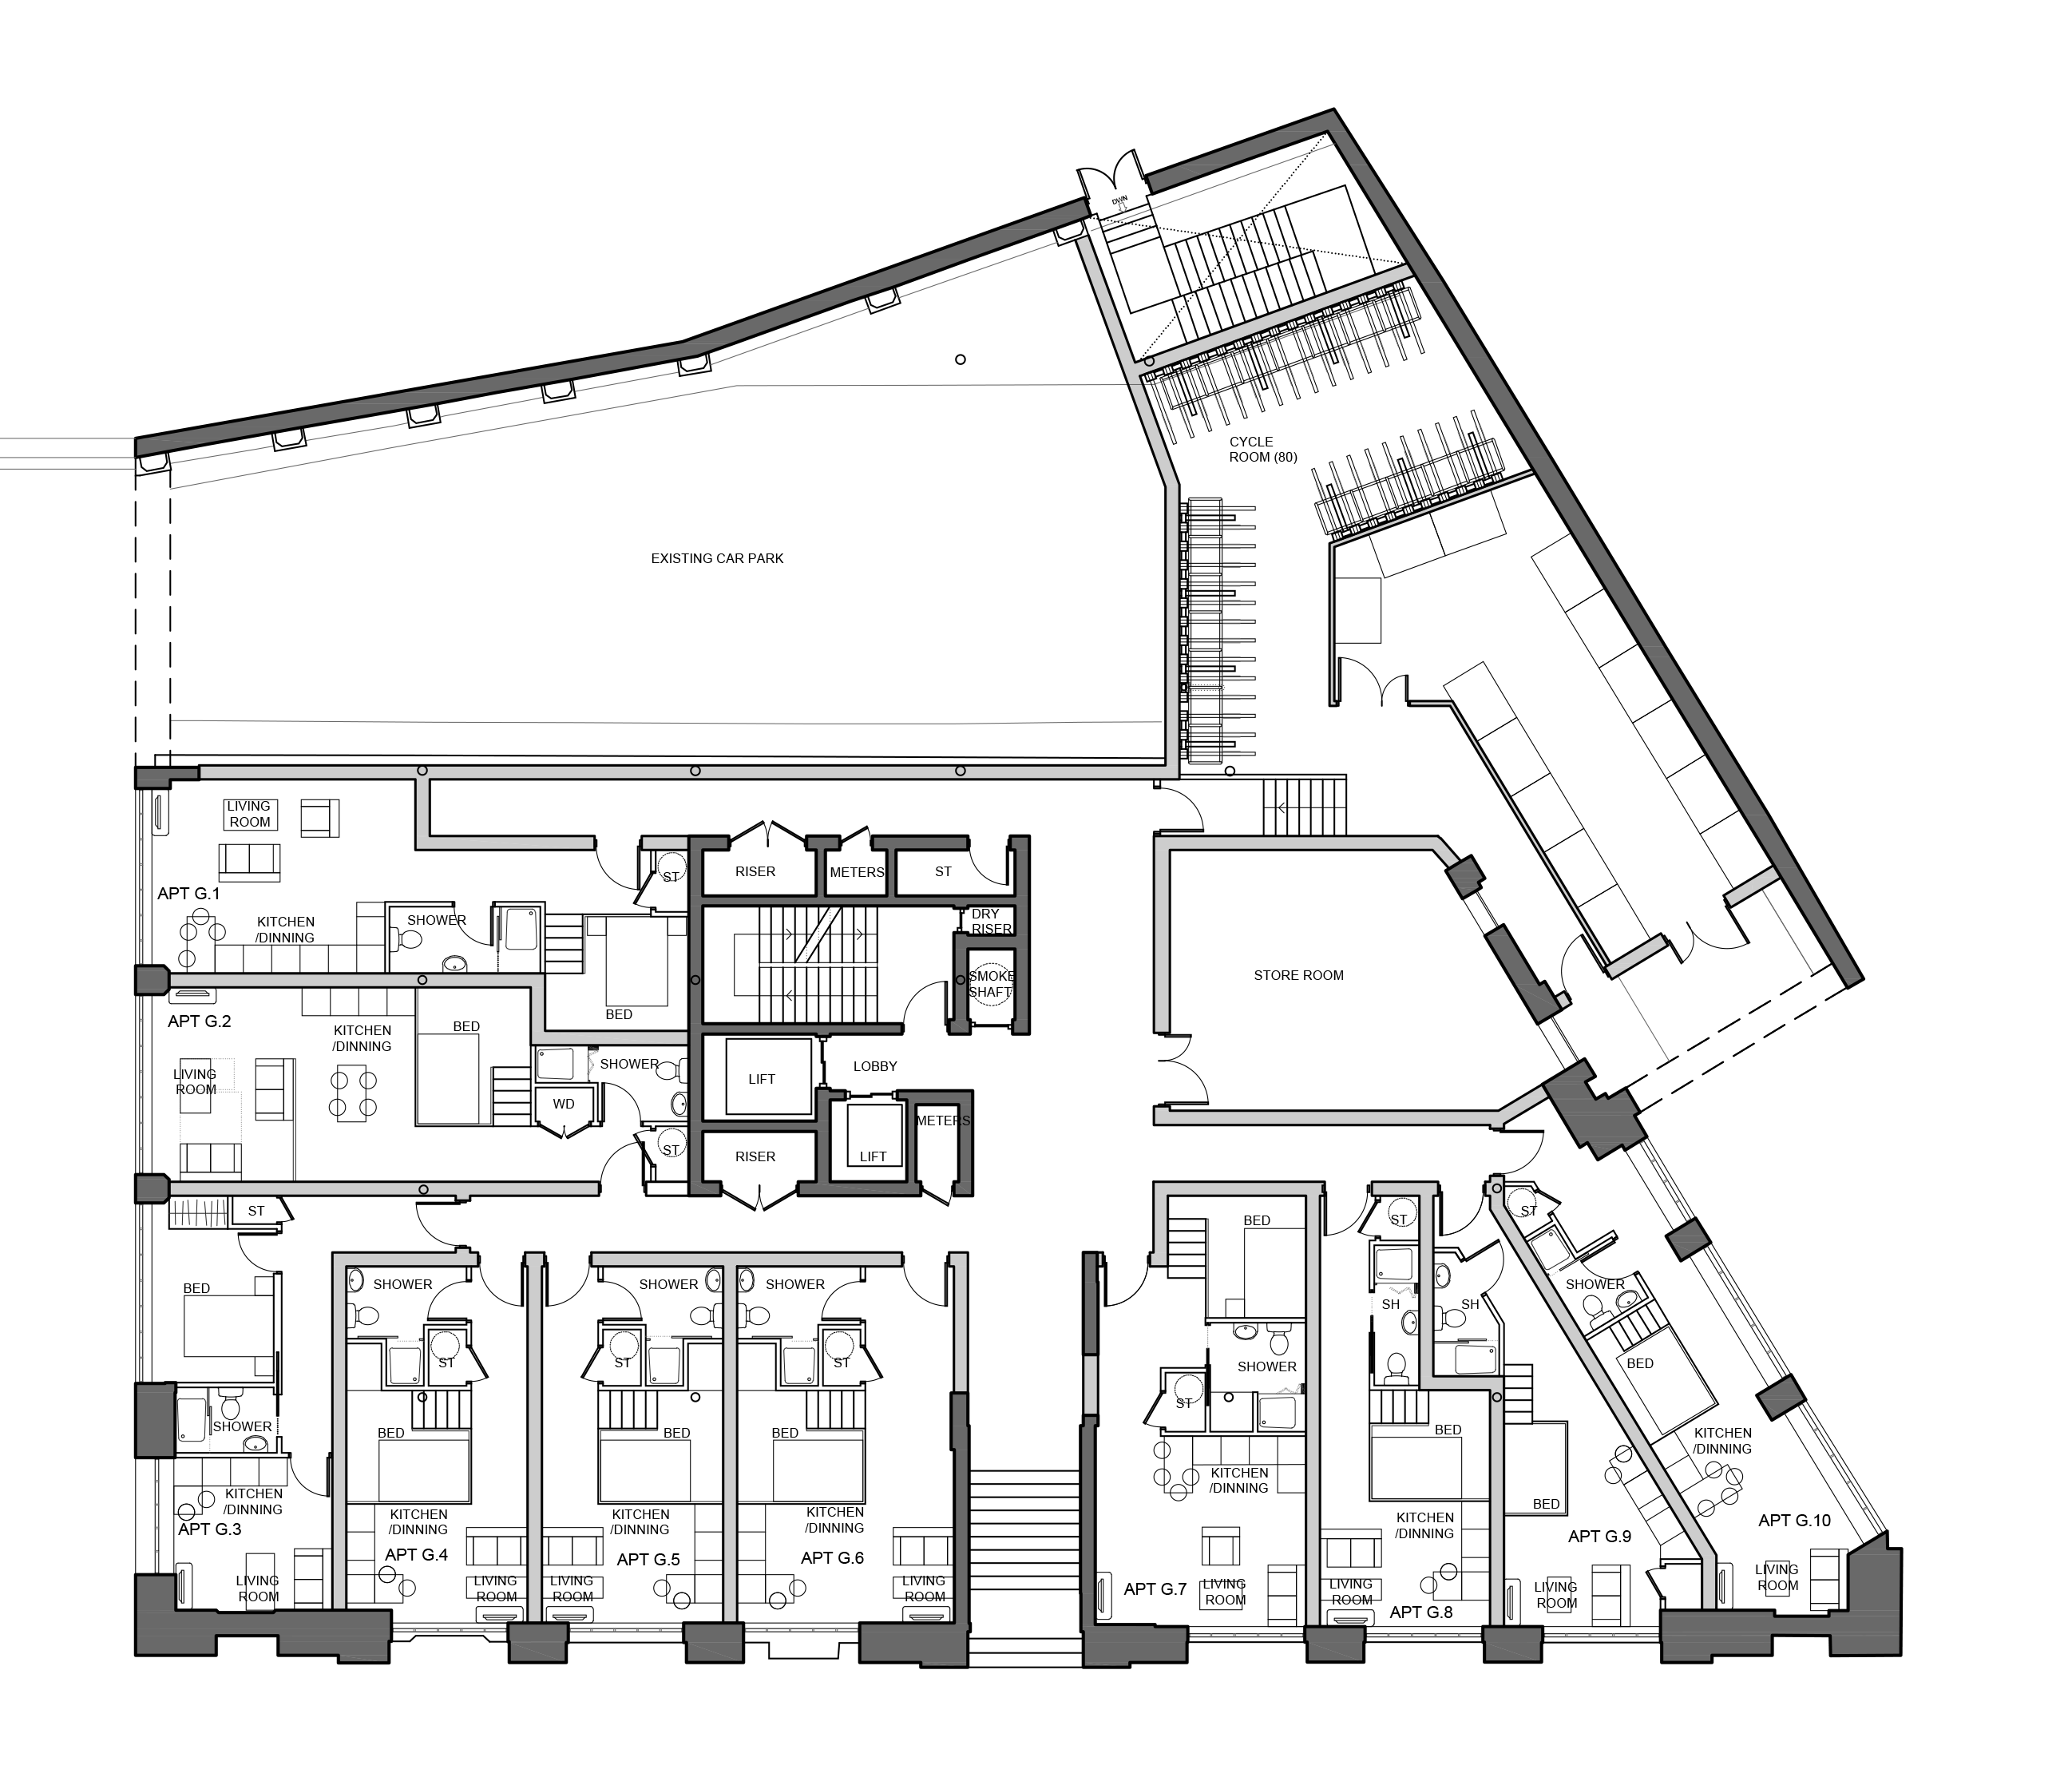door: (1163, 1033, 1214, 1107), (1498, 1126, 1545, 1176), (1438, 1192, 1484, 1238), (541, 1268, 590, 1310), (902, 1266, 951, 1308), (477, 1266, 525, 1308), (597, 1280, 645, 1322), (816, 1280, 863, 1322), (1098, 1266, 1145, 1308), (1320, 1193, 1362, 1241), (426, 1275, 465, 1324), (412, 1199, 453, 1245), (234, 1231, 275, 1275)
